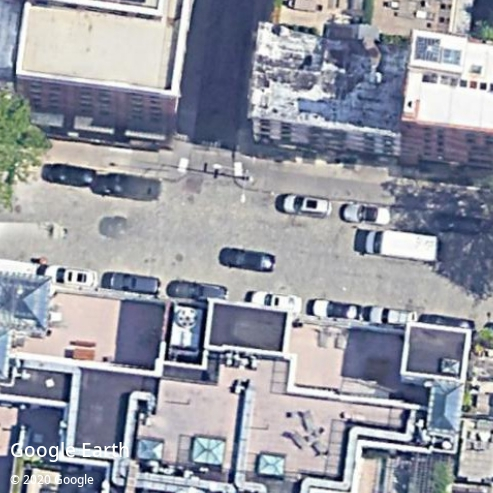Vent: (177, 307, 199, 328)
